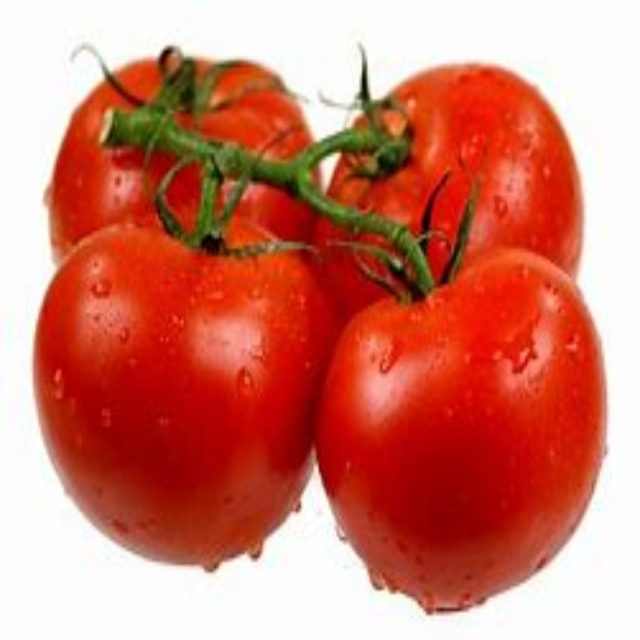tomato: (33, 228, 341, 577), (322, 264, 605, 618), (320, 61, 582, 312), (54, 42, 309, 261)
